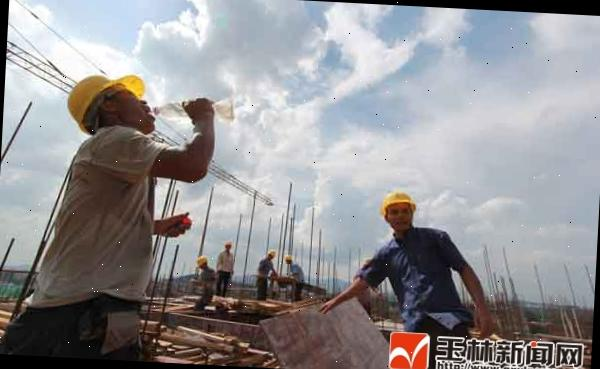helmet: (62, 68, 150, 129), (380, 188, 418, 212), (387, 355, 410, 369)
no_wear: (52, 135, 164, 308), (376, 234, 458, 326)
